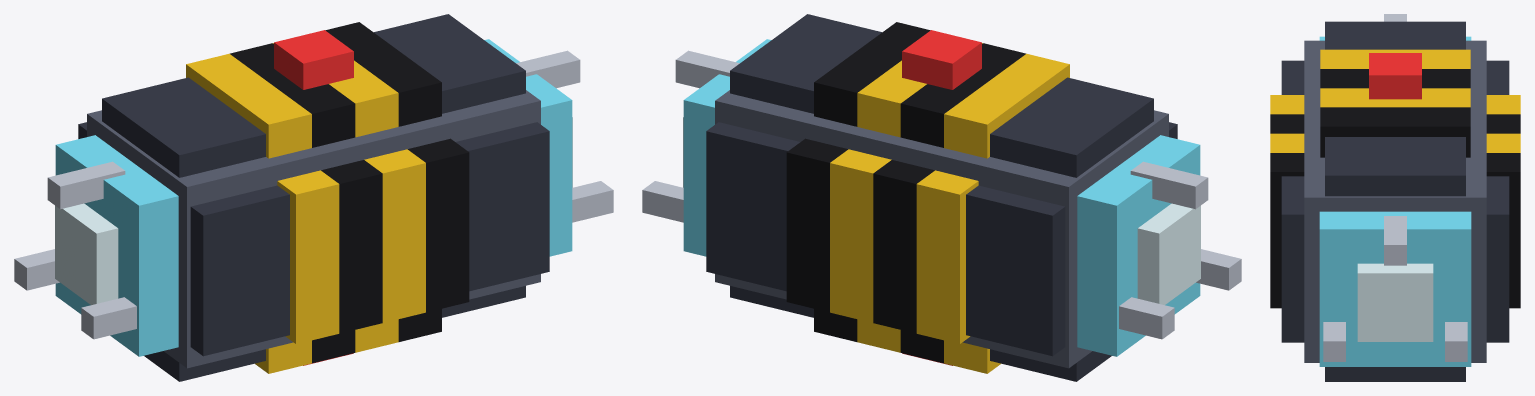
Rendered from grenade.obj.
3 views of the same model, side by side, from view 1: azimuth 30°, elevation 25°; view 2: azimuth 150°, elevation 25°; view 3: azimuth 270°, elevation 25° (orthographic). The views are drawn at different scales.
Visible parts, largest first — view 1: grenade; view 2: grenade; view 3: grenade.
Part boxes in pixels (x1=…): grenade: x1=14, y1=14, x2=613, y2=381; grenade: x1=642, y1=14, x2=1241, y2=381; grenade: x1=1270, y1=14, x2=1520, y2=381.
Size of the model in its own units: 0.72 by 0.4 by 0.33.
1 material, 1 textured.
